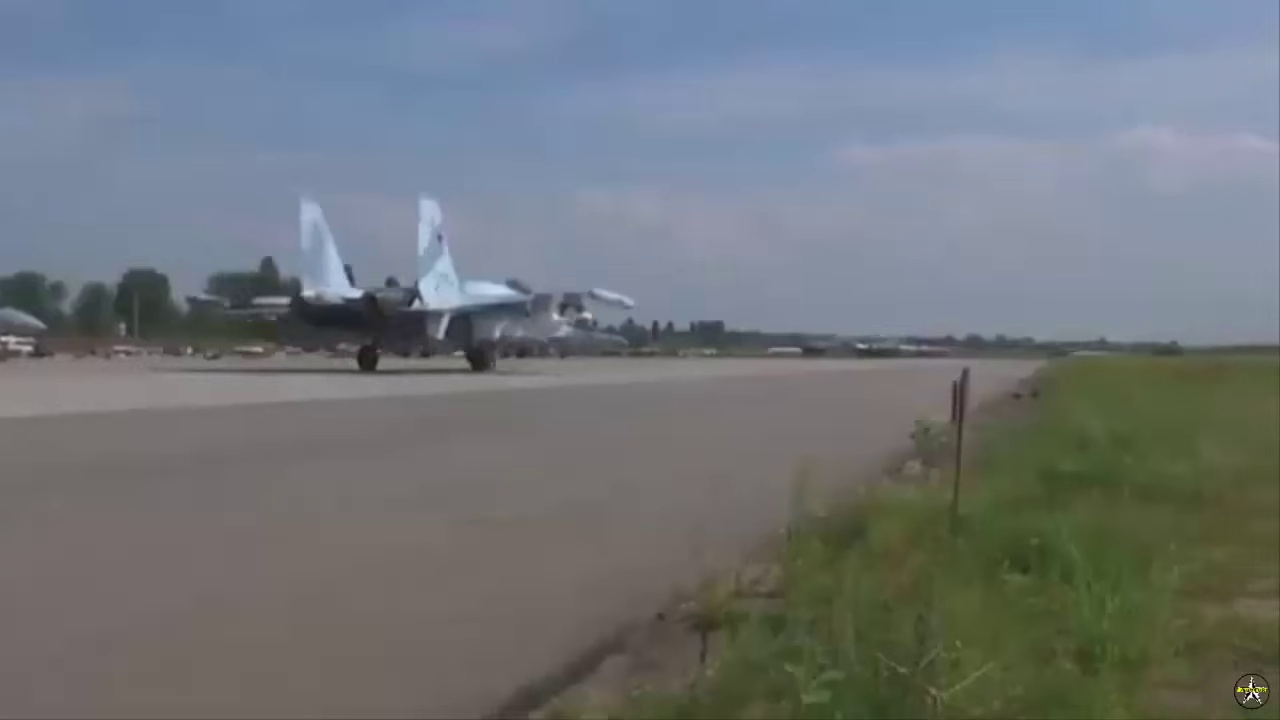Su35: (212, 188, 636, 379)
